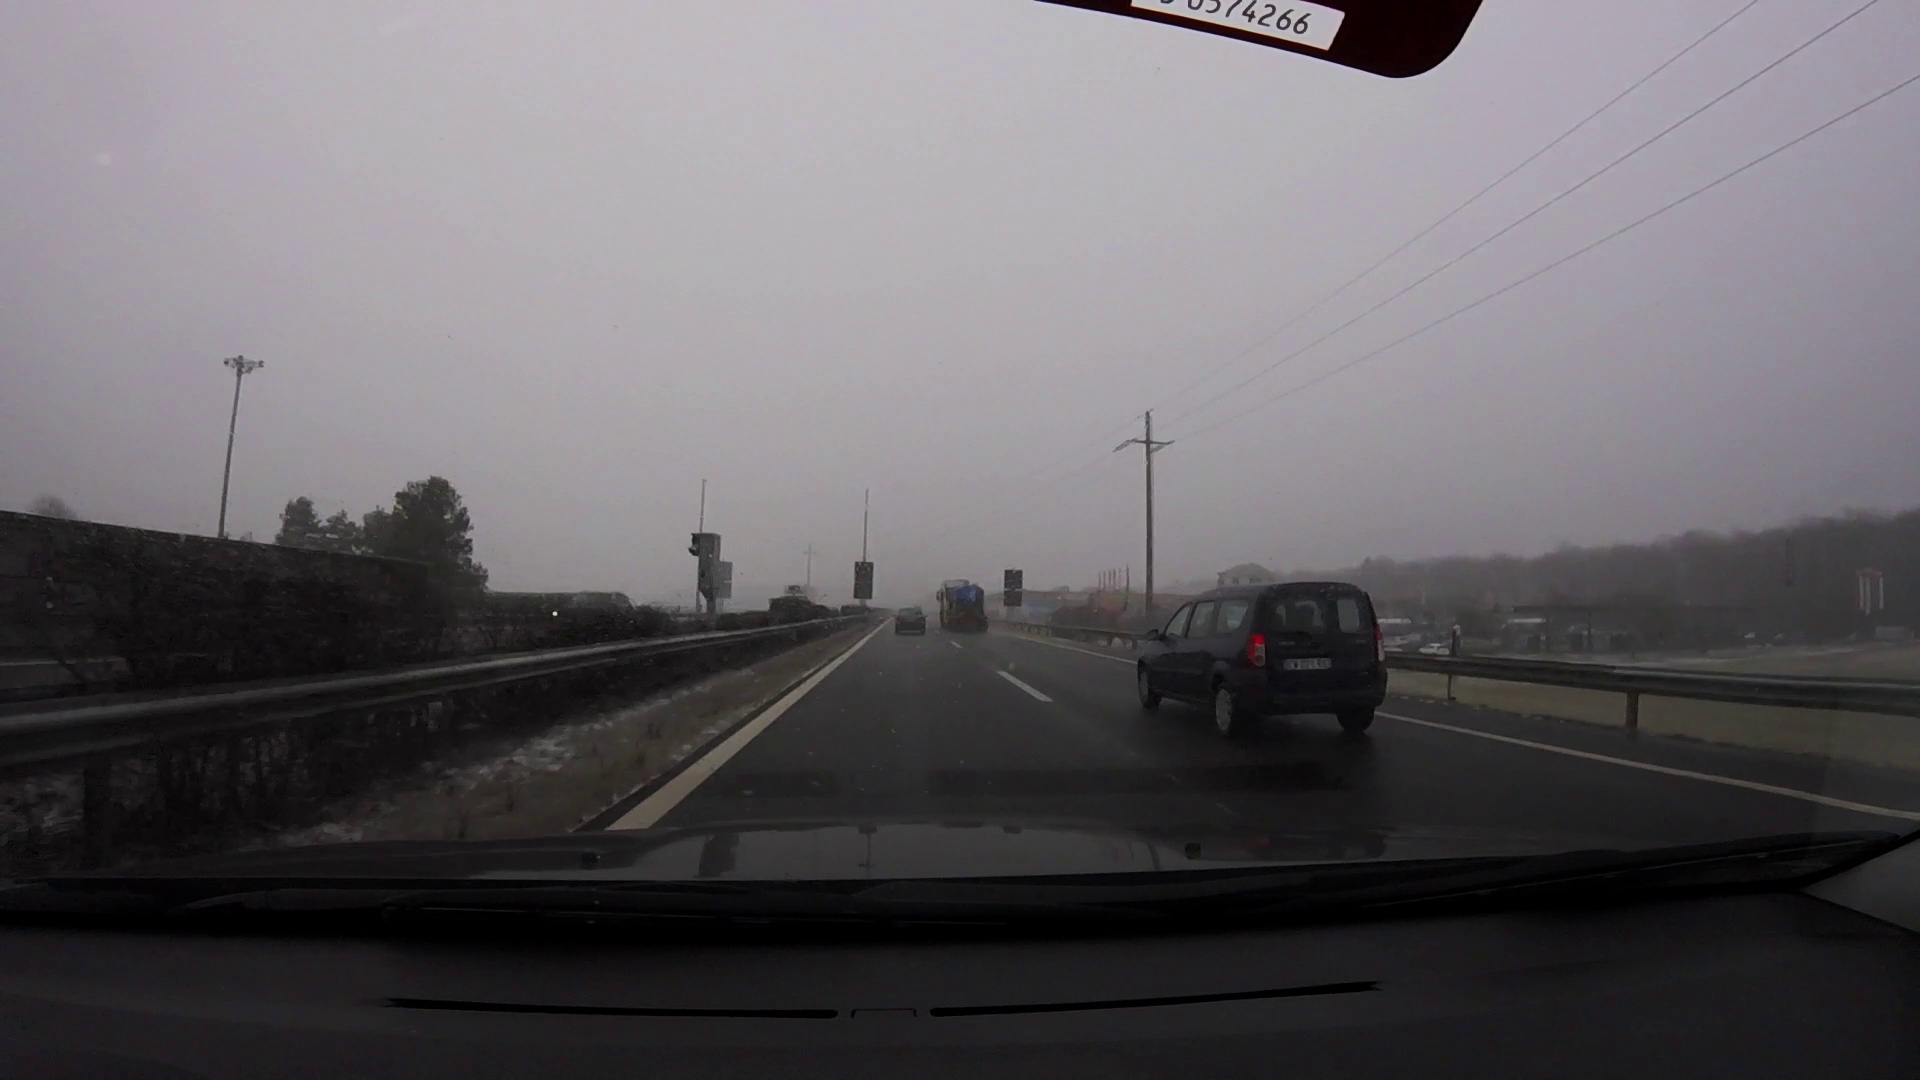radar: (687, 531, 725, 609)
